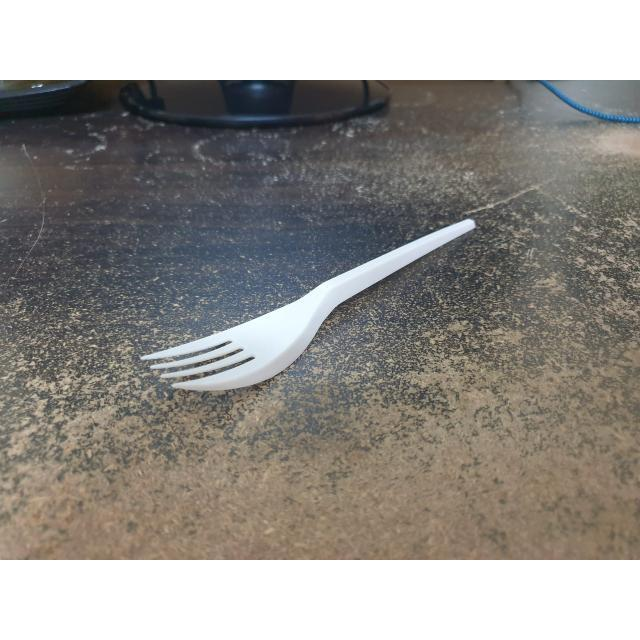Plastico descartable: (144, 219, 475, 391)
